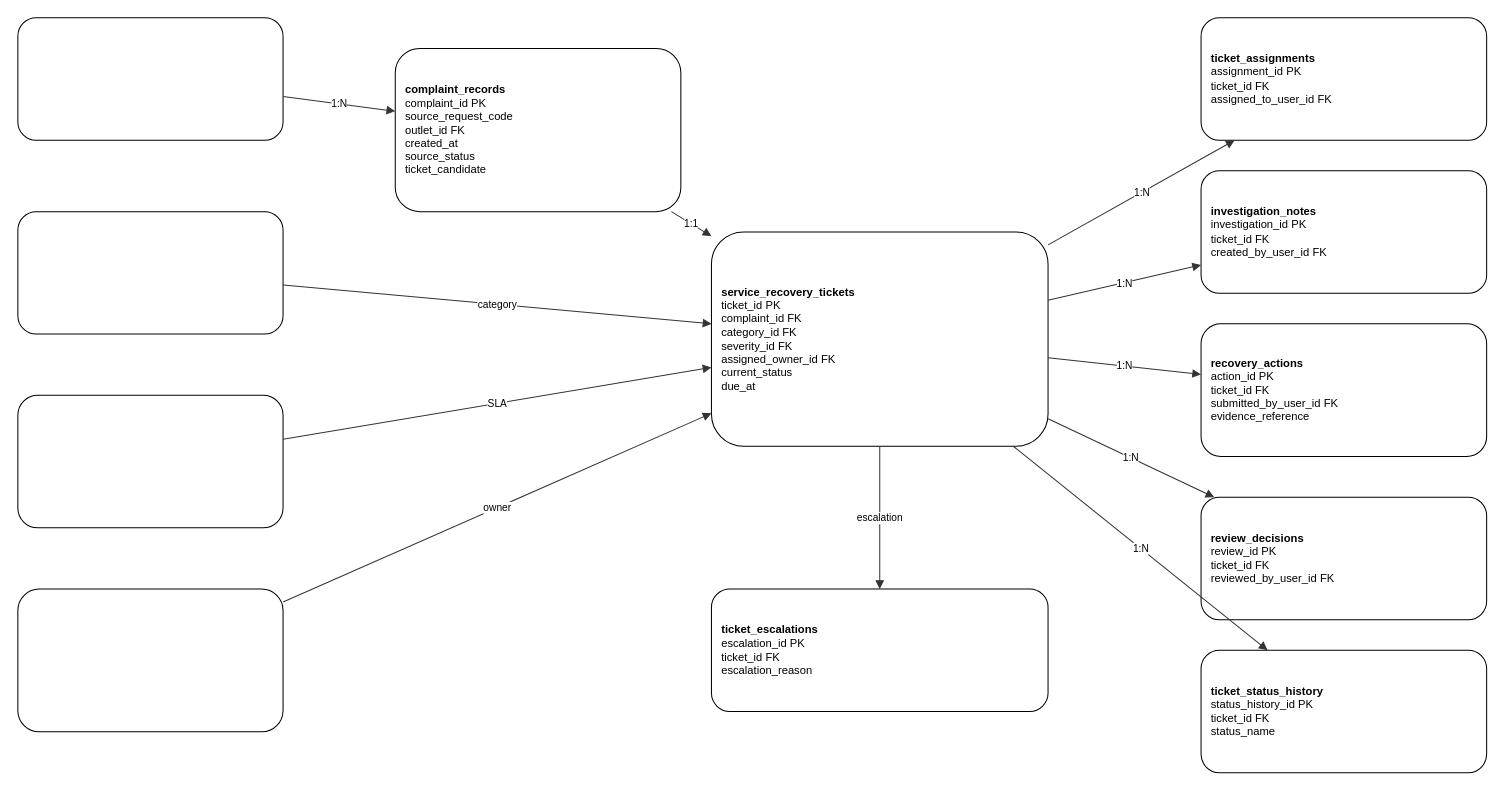
Image size: 1505x791. Some labels were removed from this diagram. Each missing label, with the centre of its shape:
complaint_categories category_id PK category_name default_owner_team: point 150,272
outlets outlet_id PK outlet_code borough is_active: point 150,78
severity_rules severity_id PK severity_name sla_hours escalation_rule: point 150,461
users user_id PK full_name role_name outlet_id FK is_active: point 150,660
